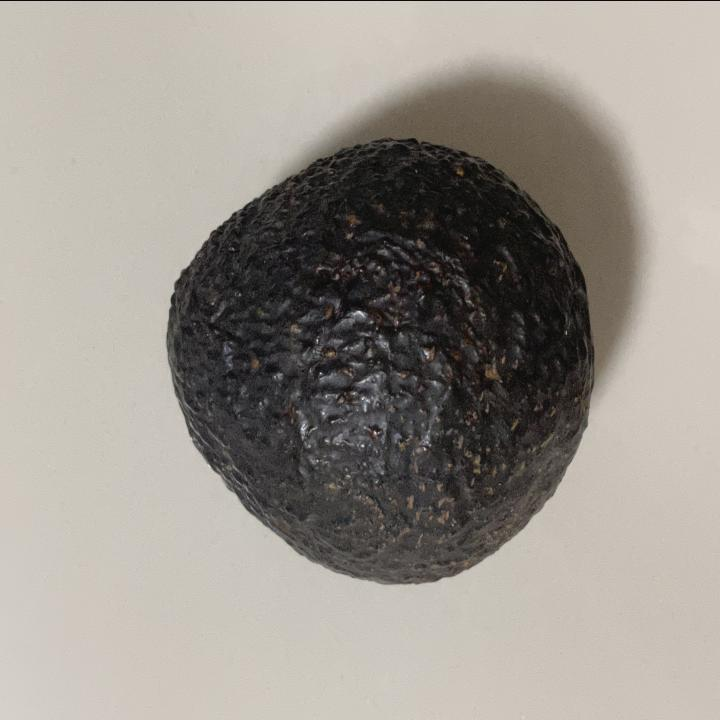Level2: (160, 131, 600, 596)
